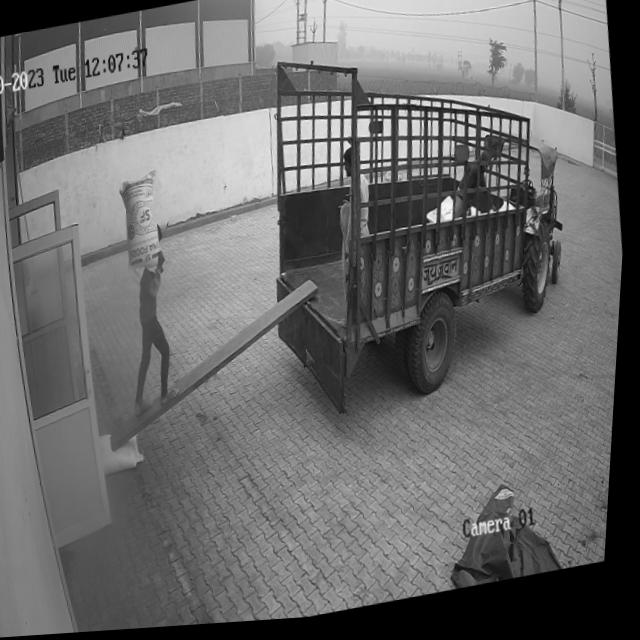sack: (116, 171, 170, 284), (103, 428, 151, 476)
